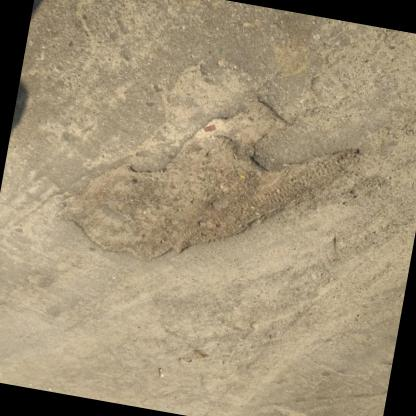pothole: (47, 63, 371, 300)
